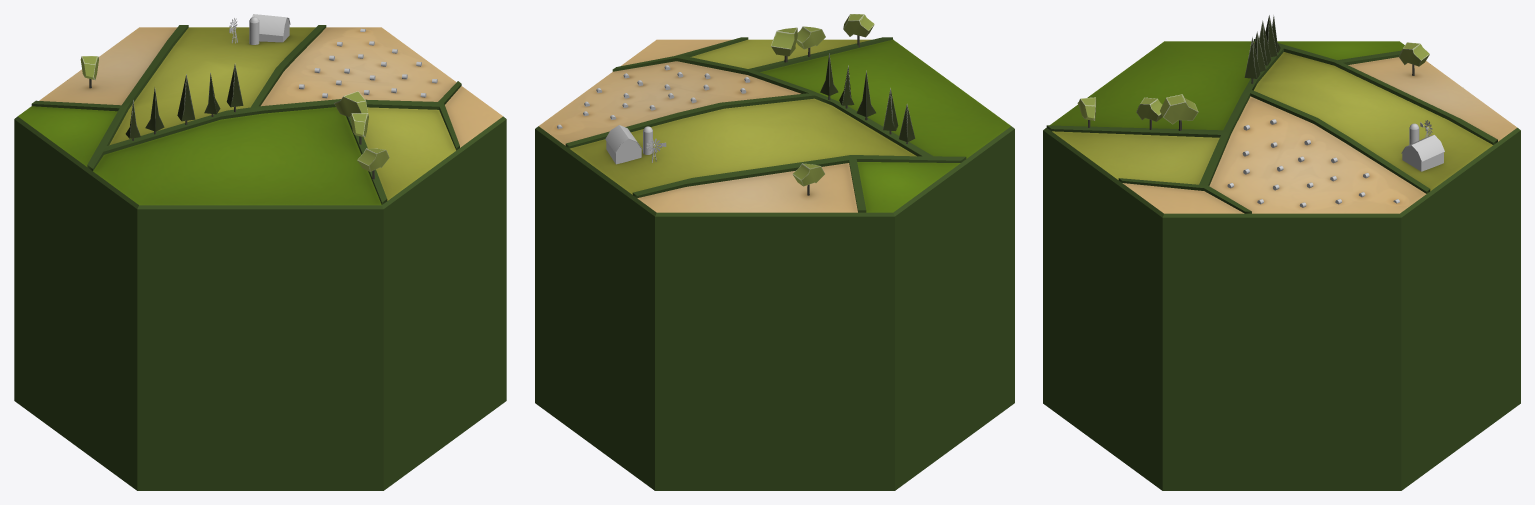
Rendered from Tile_Fields.fbx.
The picture shows the model from 3 angles, left to right: view 1: azimuth 30°, elevation 25°; view 2: azimuth 150°, elevation 25°; view 3: azimuth 270°, elevation 25°; orthographic projection. The views are drawn at different scales.
Visible parts, largest first — view 1: Fields; view 2: Fields; view 3: Fields.
Part boxes in pixels (x1=…): Fields: x1=14, y1=14, x2=506, y2=490; Fields: x1=535, y1=14, x2=1014, y2=490; Fields: x1=1043, y1=15, x2=1520, y2=490.
Bounding box in the file's own units: 1931 × 1793 × 2229.
